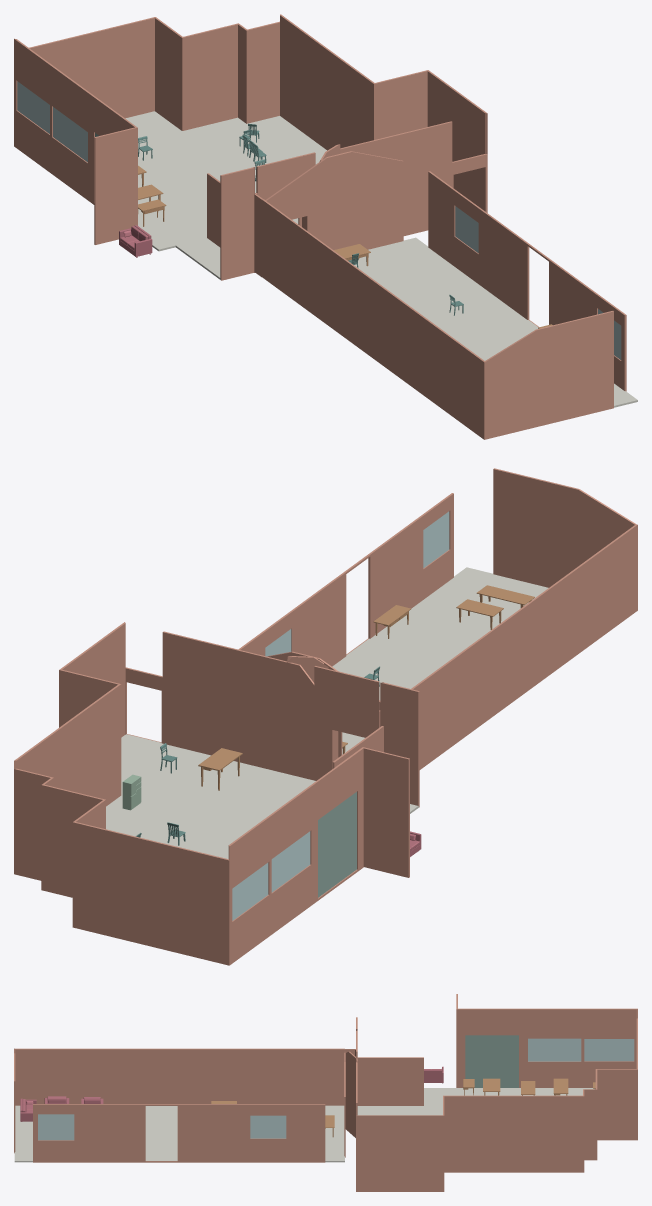
File: venue-rooms-opening-threejs-cutaway.glb
3 views of the same model, one above another, from view 1: azimuth 30°, elevation 25°; view 2: azimuth 150°, elevation 25°; view 3: azimuth 270°, elevation 25° (orthographic). The views are drawn at different scales.
Parts seen in each view (by area): view 1: Wall_6, Floor_Dining_Room_1, Wall_25, Wall_23, Floor_Living_Room, Wall_3, Wall_7, Wall_26, Wall_11, Wall_24, Wall_1, Wall_4 (+15 smaller); view 2: Wall_6, Wall_11, Wall_24, Wall_7, Wall_25, Wall_23, Floor_Living_Room, Floor_Dining_Room_2, Wall_3, Wall_4, Wall_16, Floor_Dining_Room_1 (+11 smaller); view 3: Wall_6, Wall_23, Wall_3, Wall_7, Wall_10, Floor_Living_Room, Wall_15, Wall_18, Door_0, Window_1, Floor_Dining_Room_1, Window_0 (+6 smaller).
Part boxes in pixels (x1,y1,x2,y2): Wall_6: (261,199,484,439); Floor_Dining_Room_1: (125,111,326,279); Wall_25: (484,311,613,439); Wall_23: (428,171,626,391); Floor_Living_Room: (354,237,637,407); Wall_3: (280,14,374,150); Wall_7: (14,38,137,204); Wall_26: (319,151,403,249); Wall_11: (29,17,154,118); Wall_24: (340,121,487,235); Wall_1: (182,23,238,130); Wall_4: (94,127,137,244); Wall_6: (411,524,637,769); Wall_11: (72,822,229,965); Wall_24: (125,631,286,773); Wall_7: (229,747,363,965); Wall_25: (493,468,636,587); Wall_23: (238,493,453,666); Floor_Living_Room: (332,567,548,754); Floor_Dining_Room_2: (121,734,315,827); Wall_3: (14,684,121,806); Wall_4: (363,747,409,877); Wall_16: (287,662,328,780); Floor_Dining_Room_1: (106,796,418,858); Wall_6: (15,1048,344,1105); Wall_23: (33,1104,325,1162); Wall_3: (443,1095,584,1172); Wall_7: (456,1008,637,1087); Wall_10: (356,1115,444,1191); Floor_Living_Room: (14,1105,344,1162); Wall_15: (357,1057,423,1105); Wall_18: (596,1069,637,1140); Door_0: (465,1035,518,1087); Window_1: (528,1038,581,1061); Floor_Dining_Room_1: (424,1088,594,1105); Window_0: (584,1039,634,1061).
Bounding box in the file's own units: 18.76 × 5.94 × 41.96.
